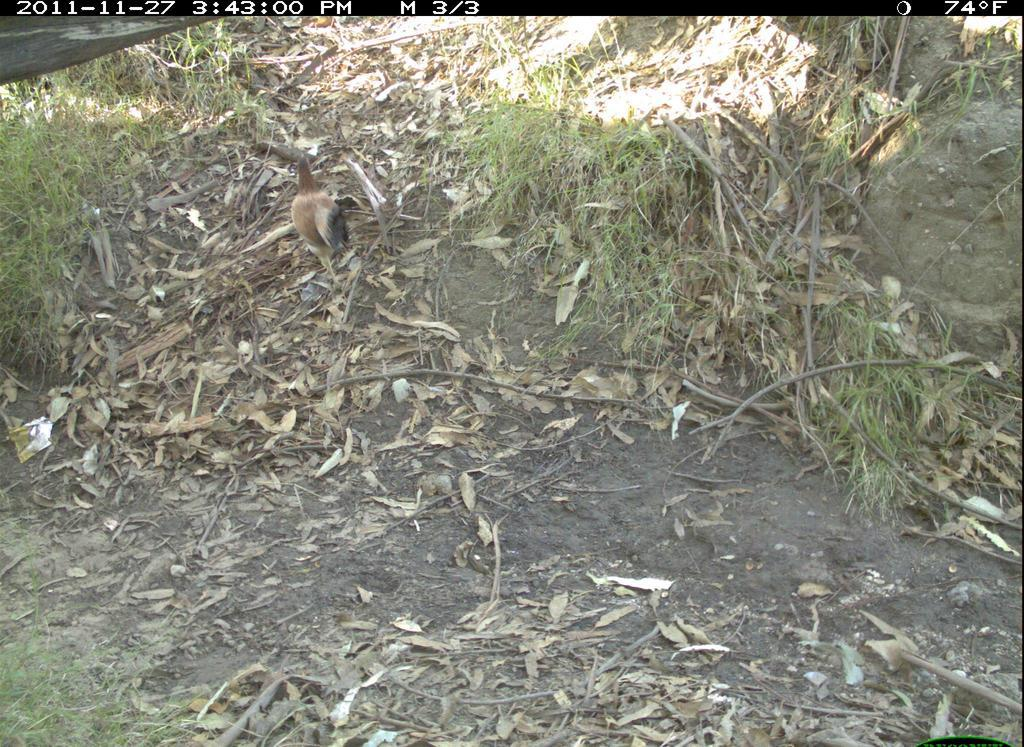bird: (285, 148, 356, 297)
